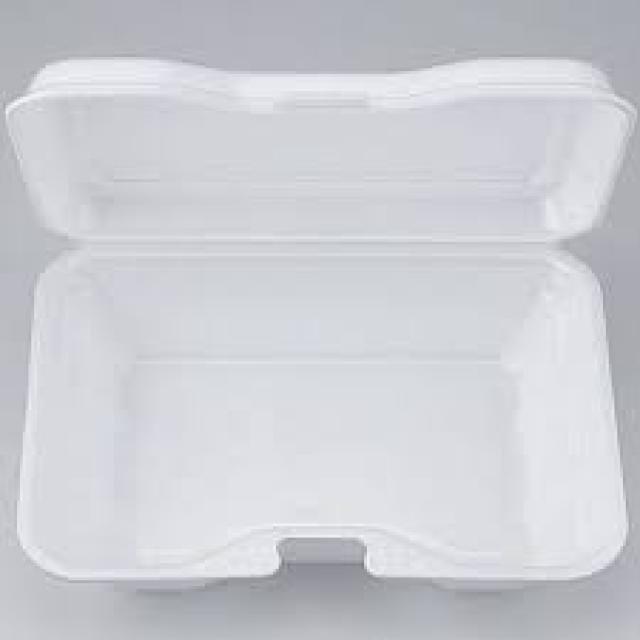styrofoam: (10, 60, 630, 580)
